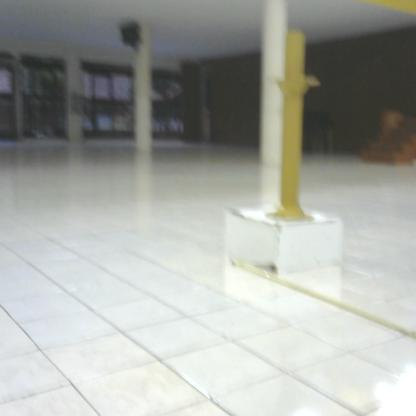pole: (262, 28, 327, 237)
